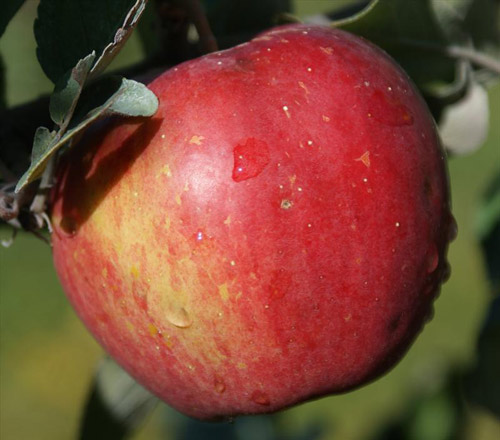apple: (49, 22, 462, 420)
